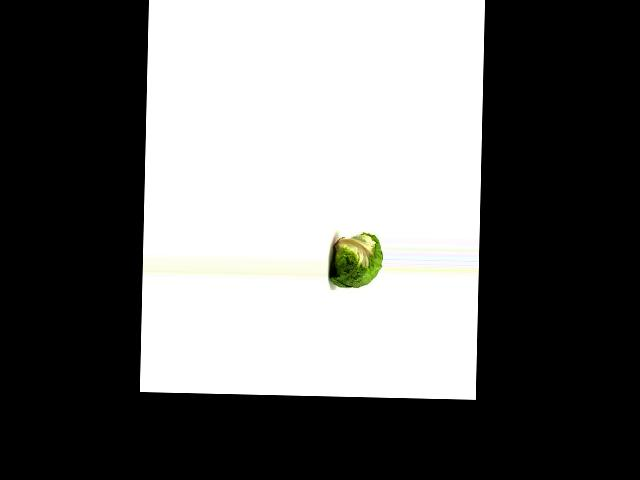lettuce: (326, 230, 383, 289)
